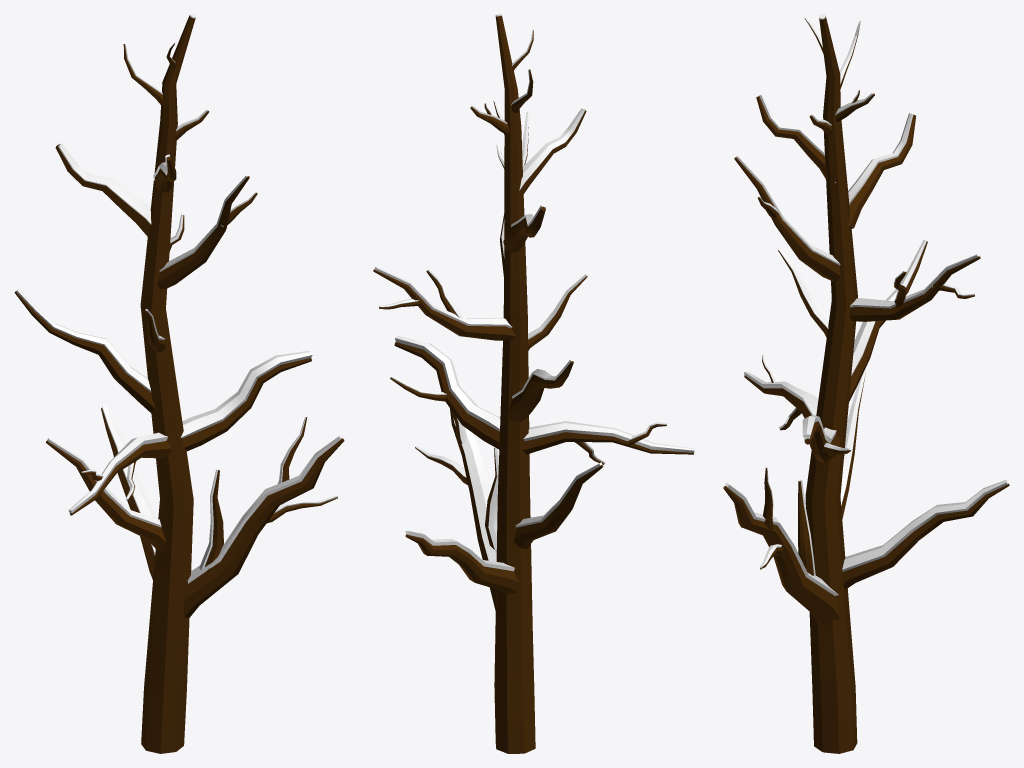
The model's file is christmasDeadTree3.dae.
3 views of the same model, side by side, from view 1: azimuth 30°, elevation 25°; view 2: azimuth 150°, elevation 25°; view 3: azimuth 270°, elevation 25° (orthographic). The views are drawn at different scales.
Visible parts, largest first — view 1: Dead_tree_three; view 2: Dead_tree_three; view 3: Dead_tree_three.
Part boxes in pixels (x1,y1,x2,y2): Dead_tree_three: (14,14,344,753); Dead_tree_three: (373,14,694,753); Dead_tree_three: (723,14,1009,753).
Bounding box in the file's own units: 0.043 × 0.038 × 0.1086.
